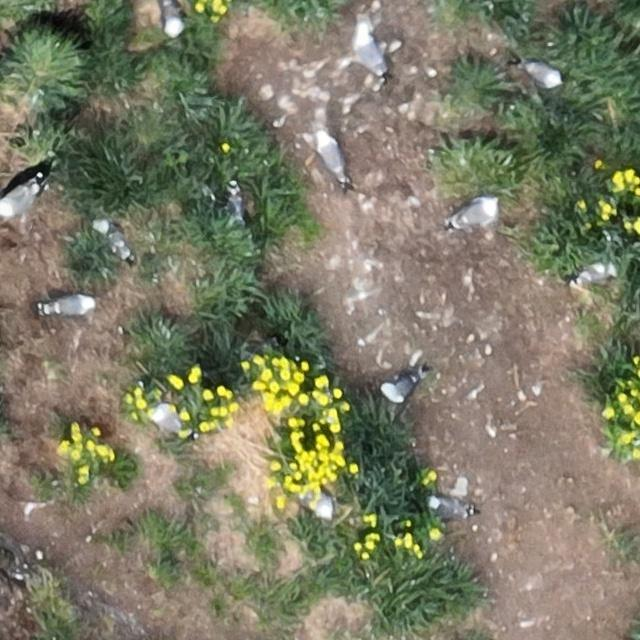umineko: (316, 130, 351, 187), (93, 218, 133, 266), (352, 20, 386, 76), (1, 184, 38, 215), (454, 199, 497, 225), (49, 295, 92, 316), (153, 408, 185, 435), (429, 498, 470, 518), (526, 62, 561, 85), (385, 377, 417, 401), (578, 262, 613, 282), (164, 4, 182, 36)
